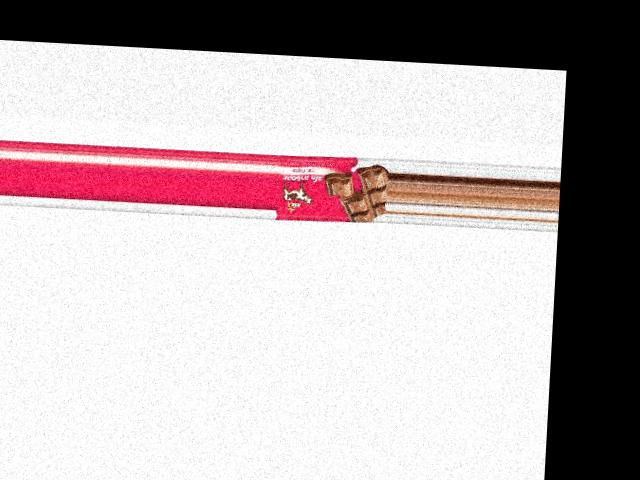chocolate: (273, 153, 388, 224)
